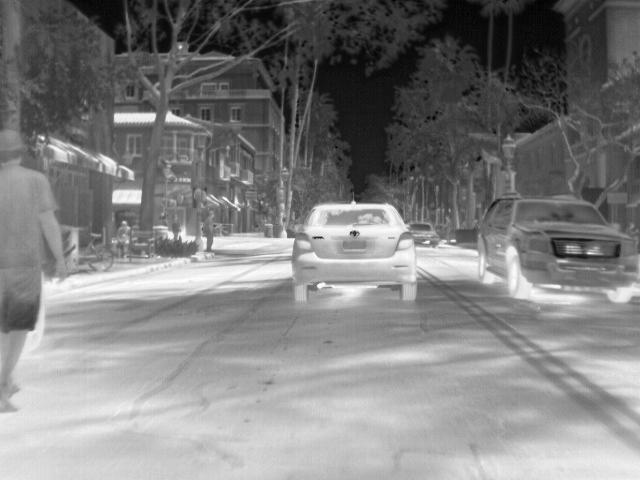car: (477, 192, 639, 303), (291, 202, 420, 303), (404, 222, 440, 248)
person: (1, 129, 68, 412), (113, 220, 133, 262), (203, 209, 218, 252), (172, 214, 181, 241), (158, 210, 170, 225)
